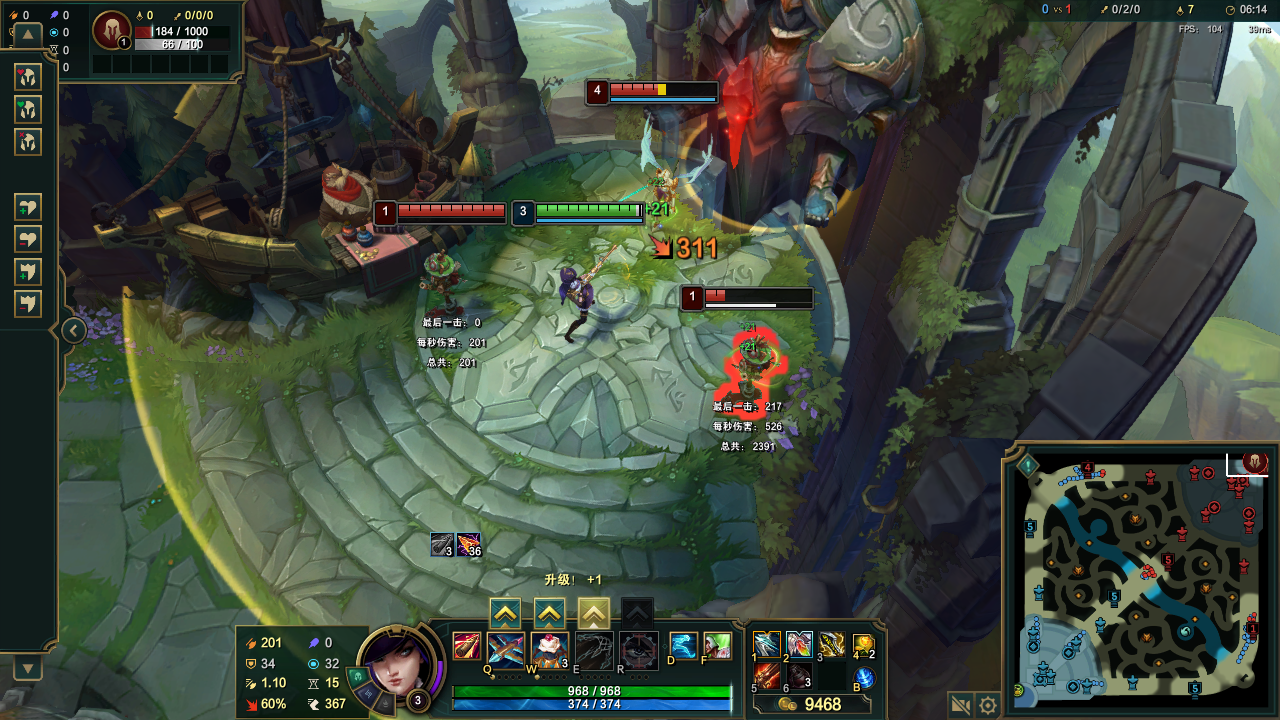DFYX: (609, 81, 722, 92), (705, 291, 821, 300), (396, 206, 505, 214)
